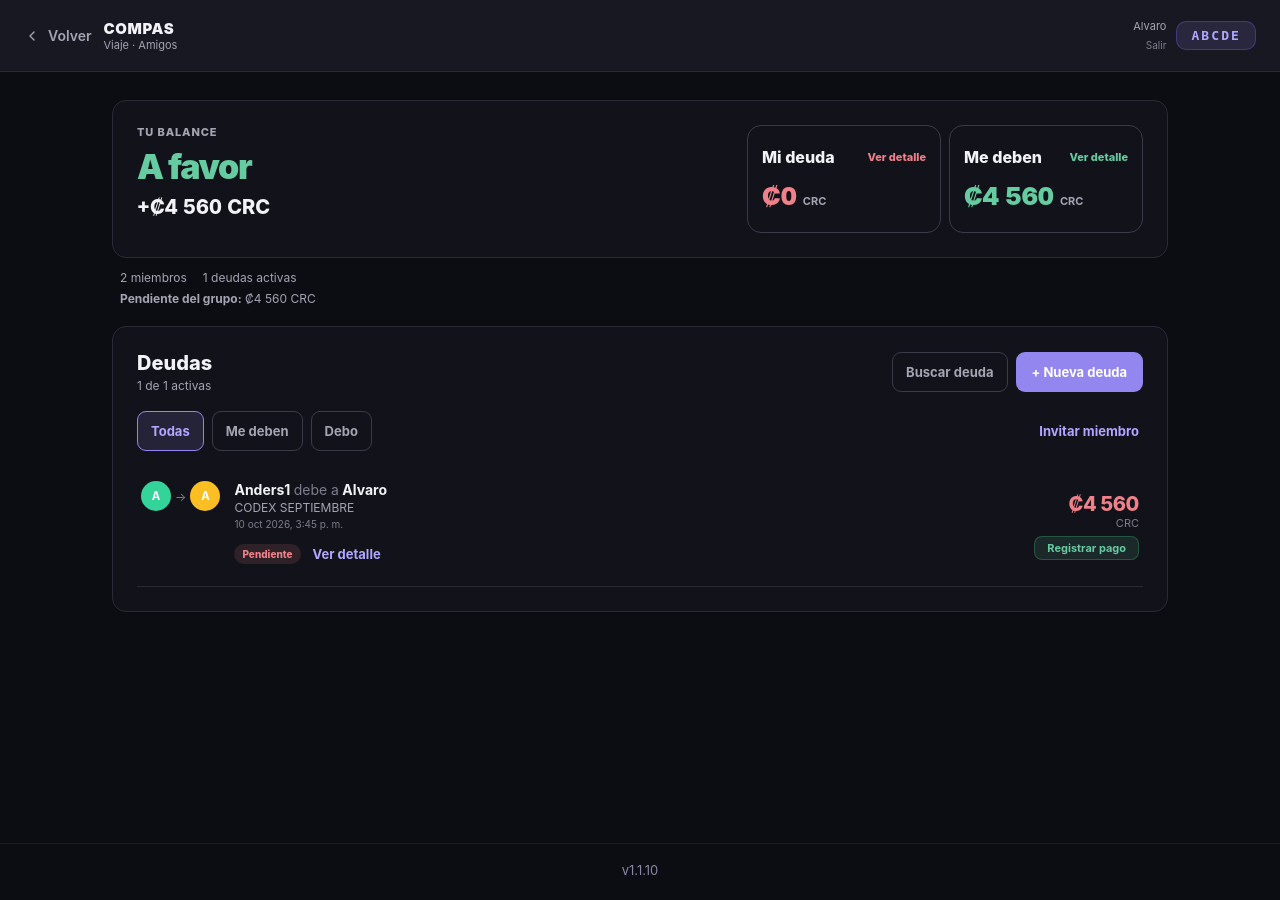
GroupPage debt cards › lets the lender register a partial payment and shows the remaining balance
This screenshot has width=1280, height=900.
Click the button "Registrar pago" at (1087, 548), box [1034,536,1139,560]
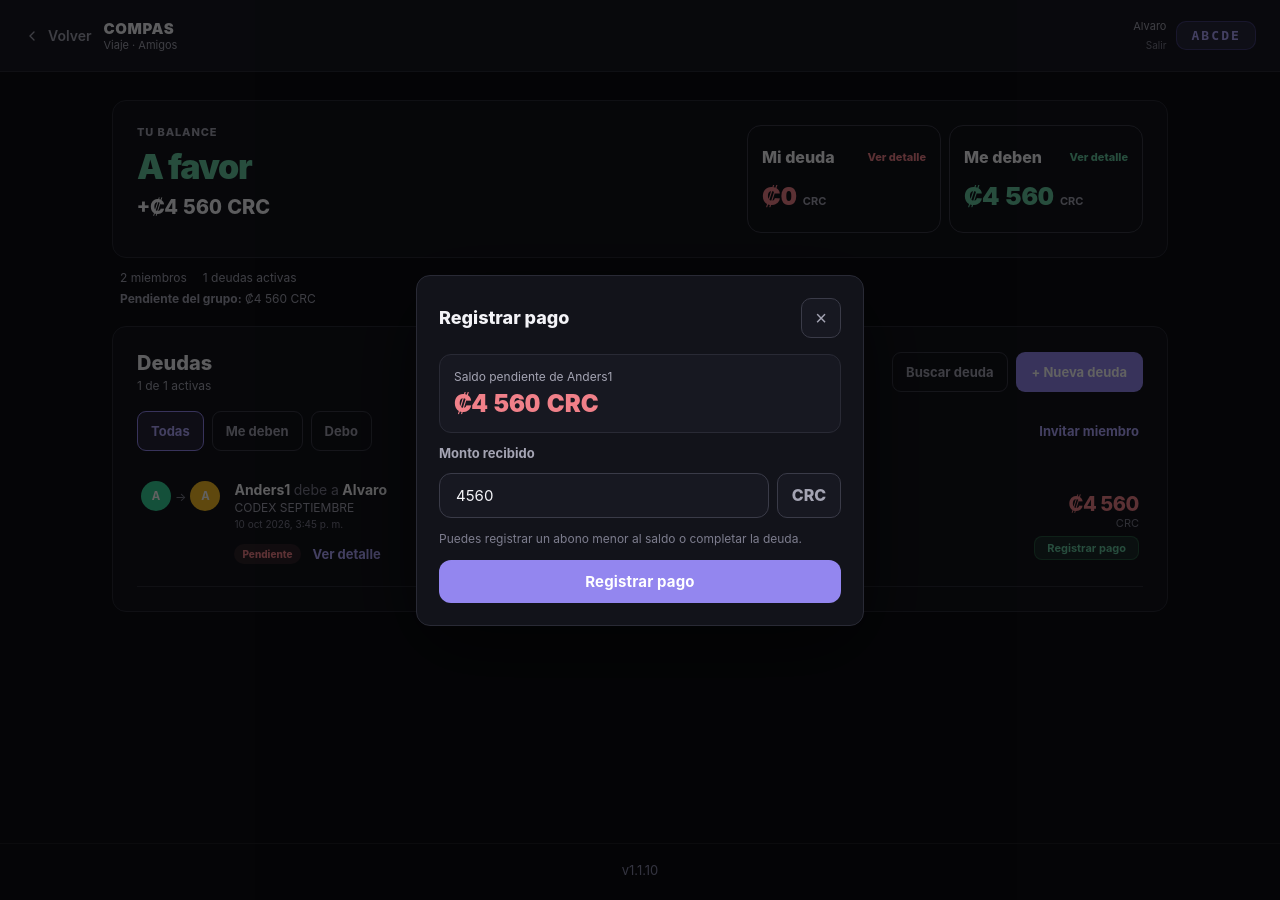
Check: the number field labelled "Monto recibido" holds "4560"
Replace the text in the number field labelled "Monto recibido" with "1500" at (604, 495), box [439,472,769,518]
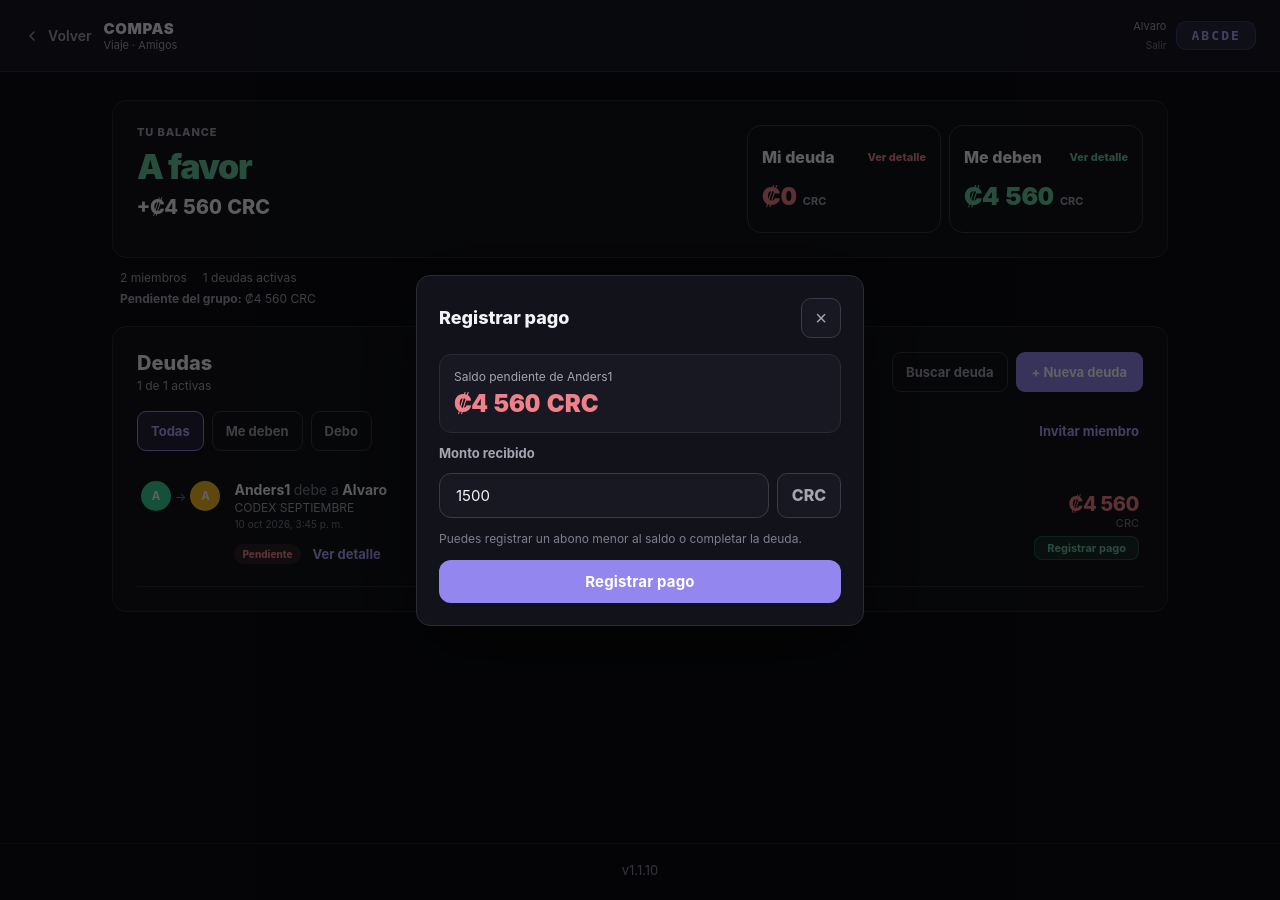
Click the button "Registrar pago" at (640, 581), box [439,560,841,602]
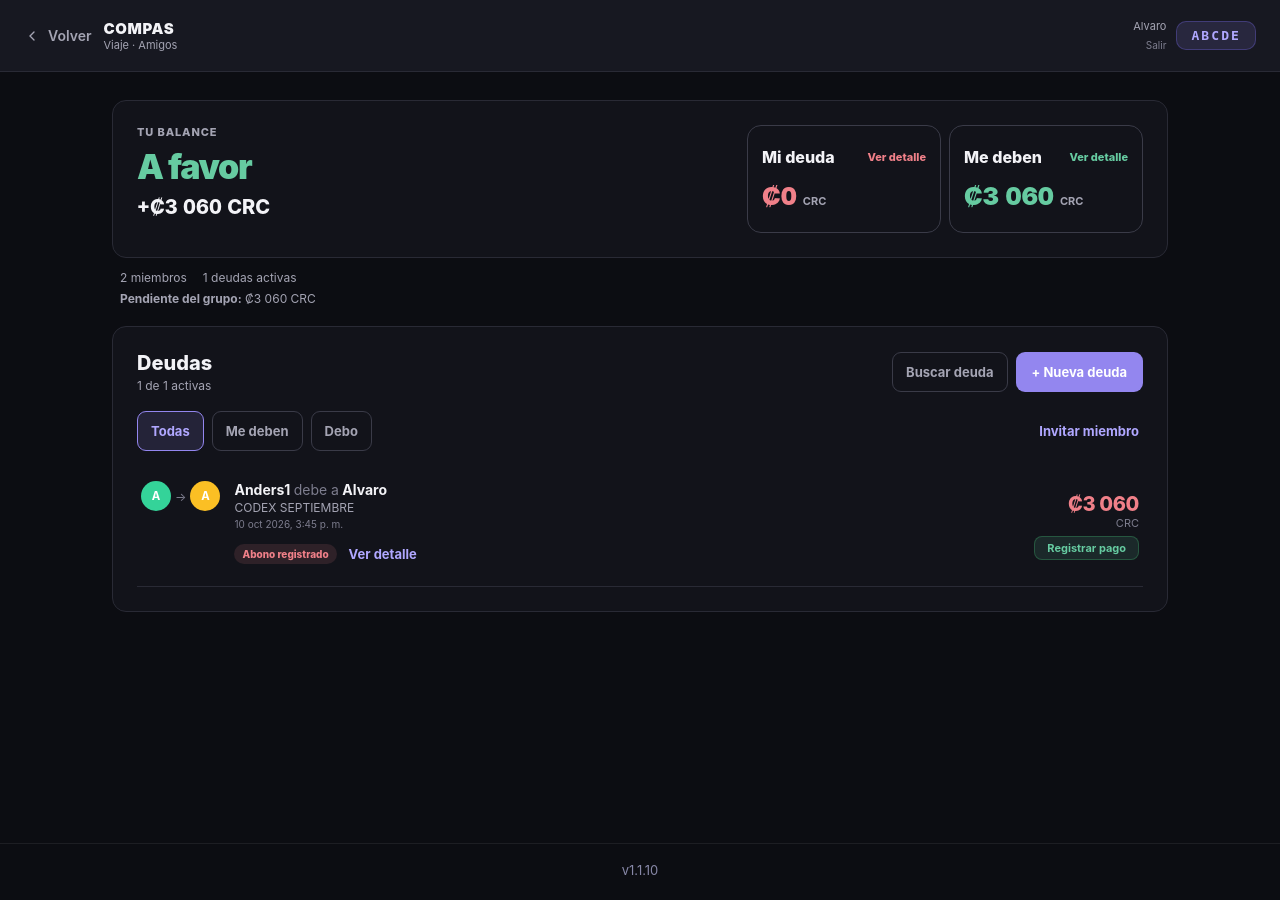
Check: the text "CODEX SEPTIEMBRE" is shown, box [234,500,354,515]
Check: the text "₡3 060" is shown, box [1068,492,1139,516]
